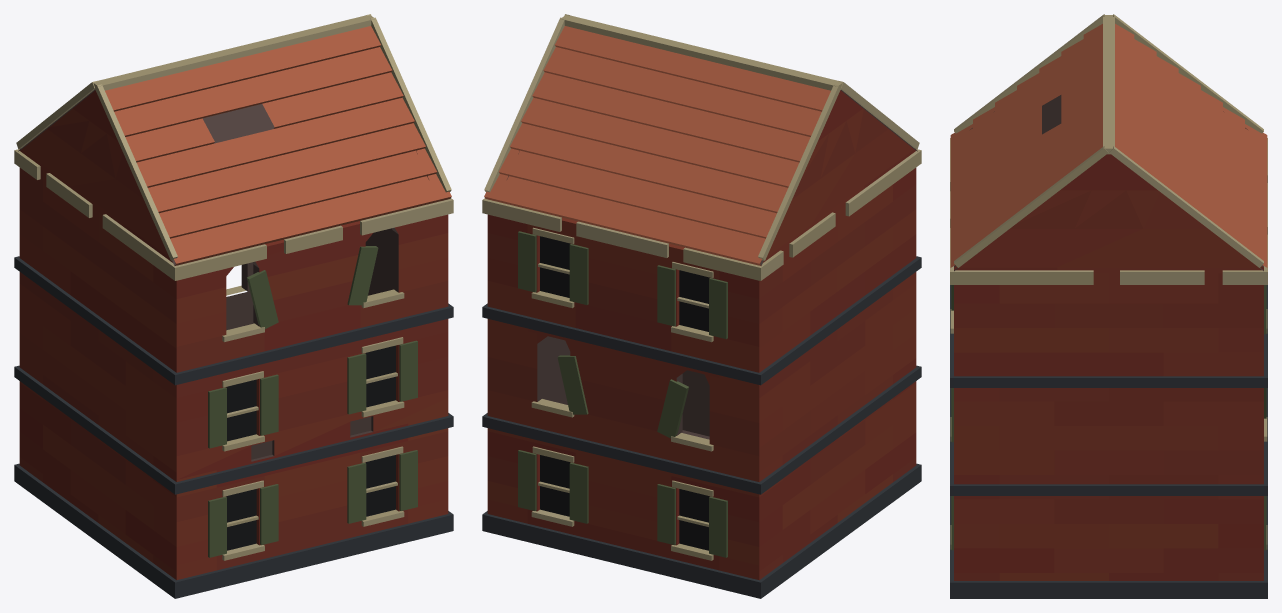
The model's file is shelled-townhouse-2483d1.glb.
3 views of the same model, side by side, from view 1: azimuth 30°, elevation 25°; view 2: azimuth 150°, elevation 25°; view 3: azimuth 270°, elevation 25° (orthographic).
Visible parts, largest first — view 1: shelled-townhouse; view 2: shelled-townhouse; view 3: shelled-townhouse.
Boxes of the visible parts, x1,y1,x2,y2 form: shelled-townhouse: (14,14,453,598); shelled-townhouse: (482,14,921,598); shelled-townhouse: (950,14,1267,598).
Size of the model in its own units: 8 by 12.52 by 8.
